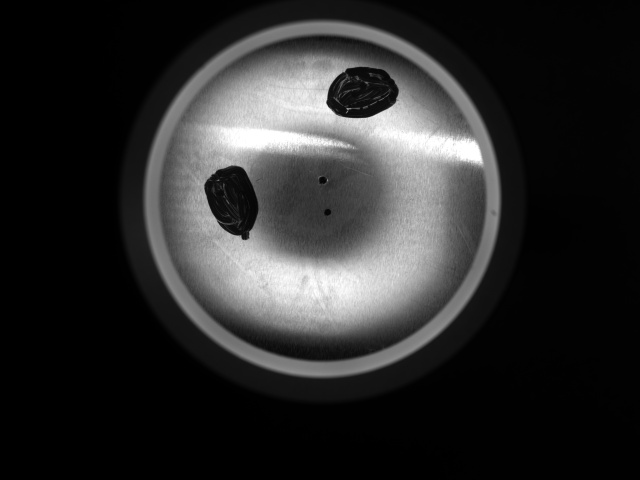zang_wu: (203, 164, 261, 241), (324, 66, 401, 120)
zhen_kong: (317, 174, 329, 186), (322, 205, 333, 218)
